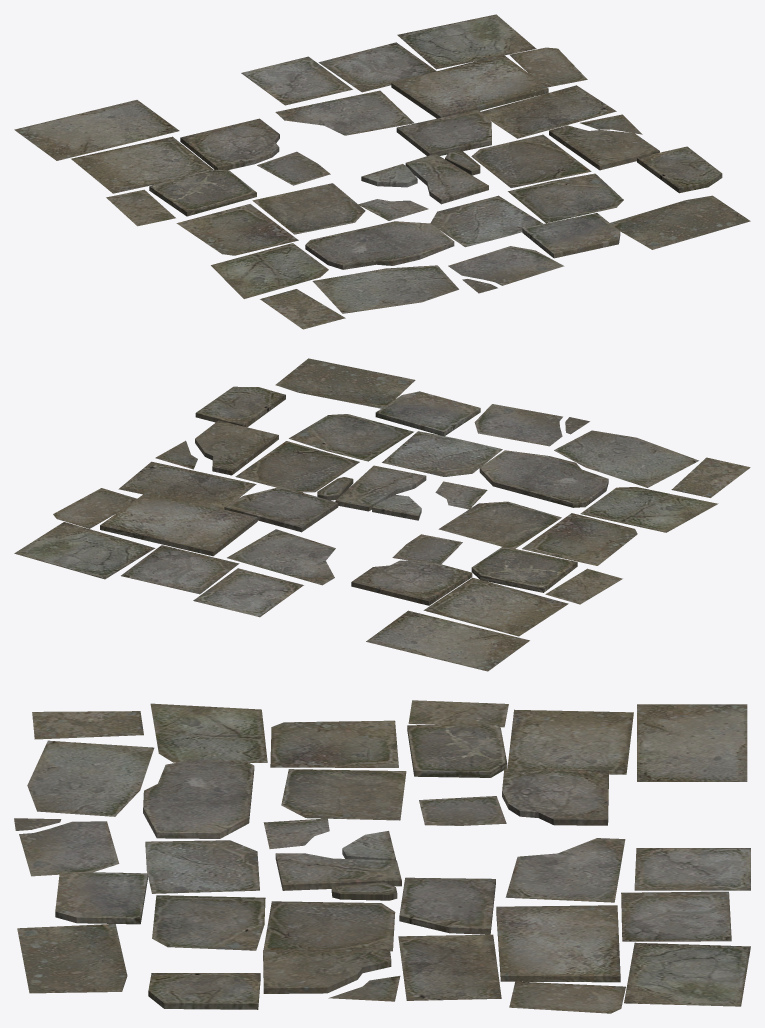
File: bg_lut_lutomb_brick02_sm_old.FBX
3 renders of one model, top to bottom at view 1: azimuth 30°, elevation 25°; view 2: azimuth 150°, elevation 25°; view 3: azimuth 270°, elevation 25°, orthographic. The views are drawn at different scales.
Visible parts, largest first — view 1: bg_lut_lutomb_brick02_sm_old; view 2: bg_lut_lutomb_brick02_sm_old; view 3: bg_lut_lutomb_brick02_sm_old.
Part boxes in pixels (<box>): bg_lut_lutomb_brick02_sm_old: <box>14,14,750,329</box>; bg_lut_lutomb_brick02_sm_old: <box>14,358,750,671</box>; bg_lut_lutomb_brick02_sm_old: <box>14,700,750,1013</box>.
Size of the model in its own units: 393 by 3.36 by 390.
